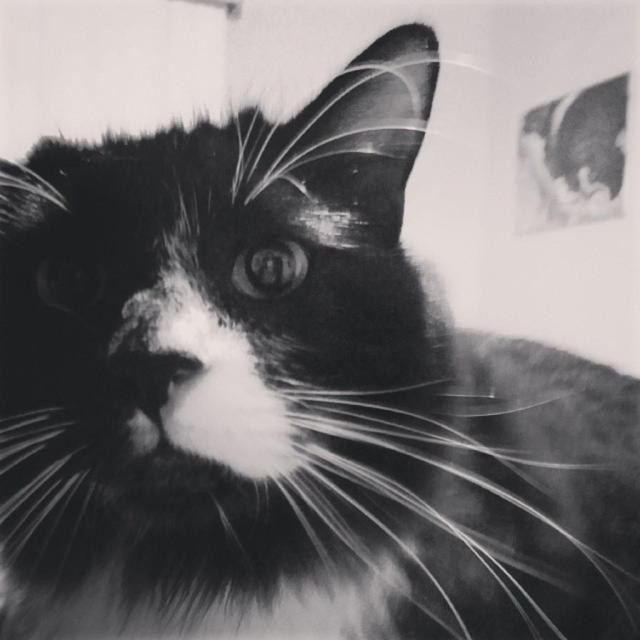Cat: (0, 26, 638, 638)
